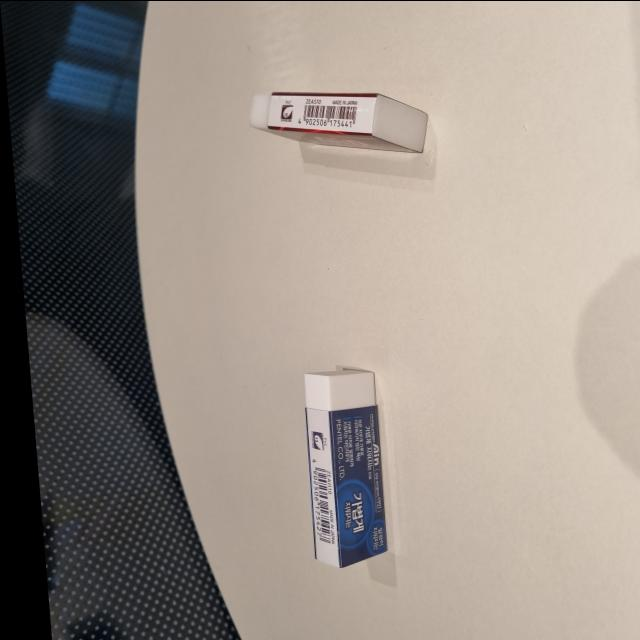blue: (281, 360, 386, 570)
red: (242, 81, 438, 160)
